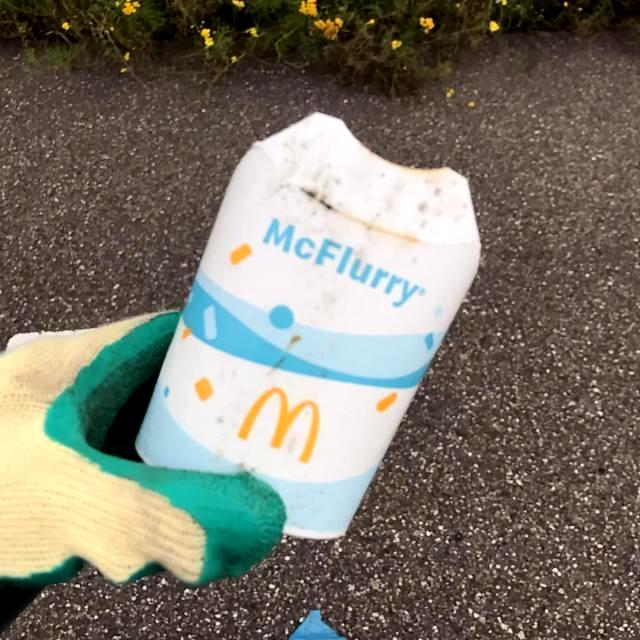Paper: (128, 110, 482, 544)
